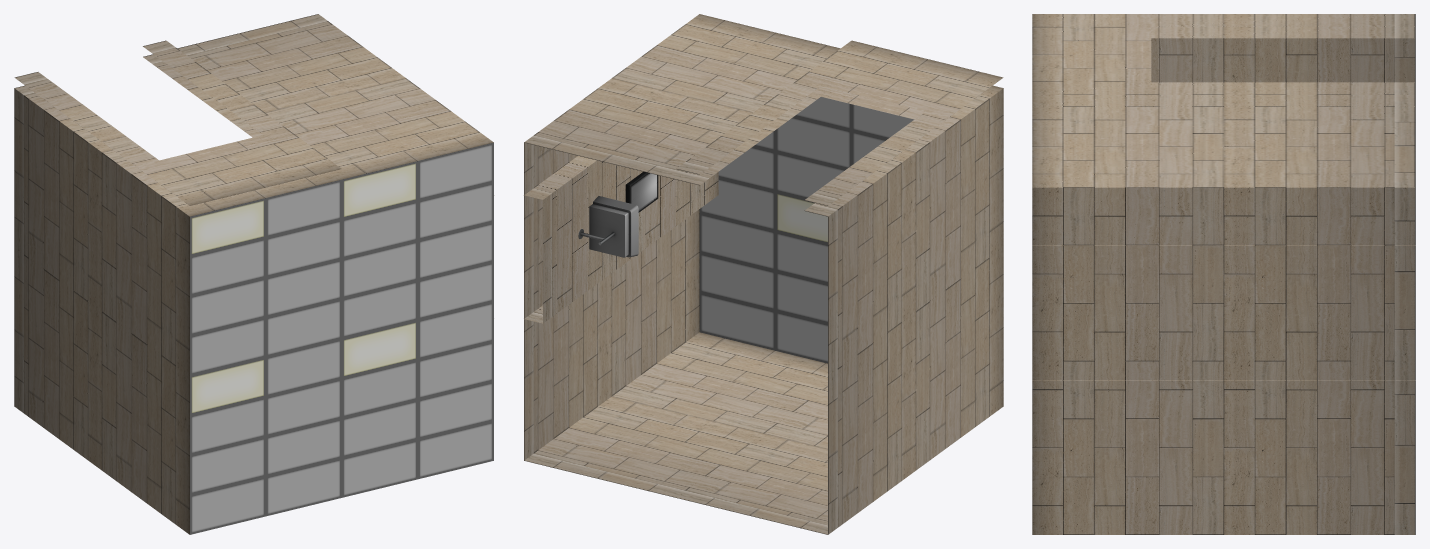
The model's file is bathroom.obj.
3 renders of one model, left to right at view 1: azimuth 30°, elevation 25°; view 2: azimuth 150°, elevation 25°; view 3: azimuth 270°, elevation 25°, orthographic. The views are drawn at different scales.
Parts seen in each view (by area): view 1: bathroom; view 2: bathroom; view 3: bathroom.
Part boxes in pixels (x1=…): bathroom: x1=14, y1=14, x2=494, y2=534; bathroom: x1=523, y1=14, x2=1003, y2=534; bathroom: x1=1032, y1=14, x2=1415, y2=534.
Bounding box in the file's own units: 301 × 310 × 300.
